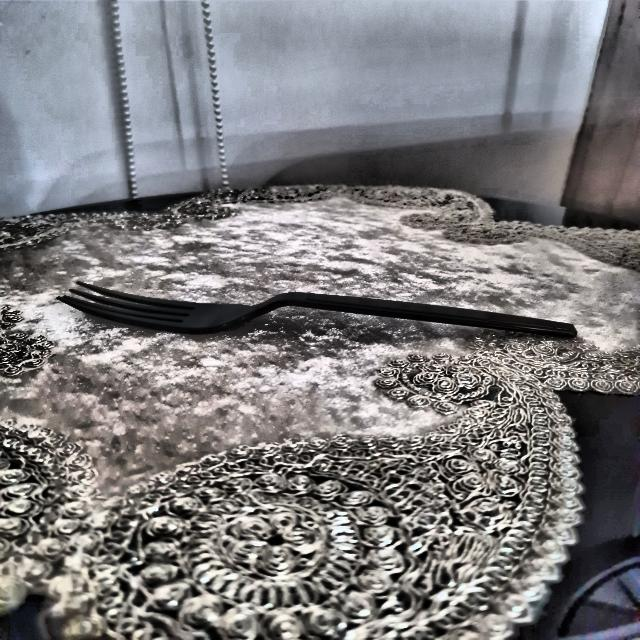plastic utensil: (58, 275, 582, 350)
